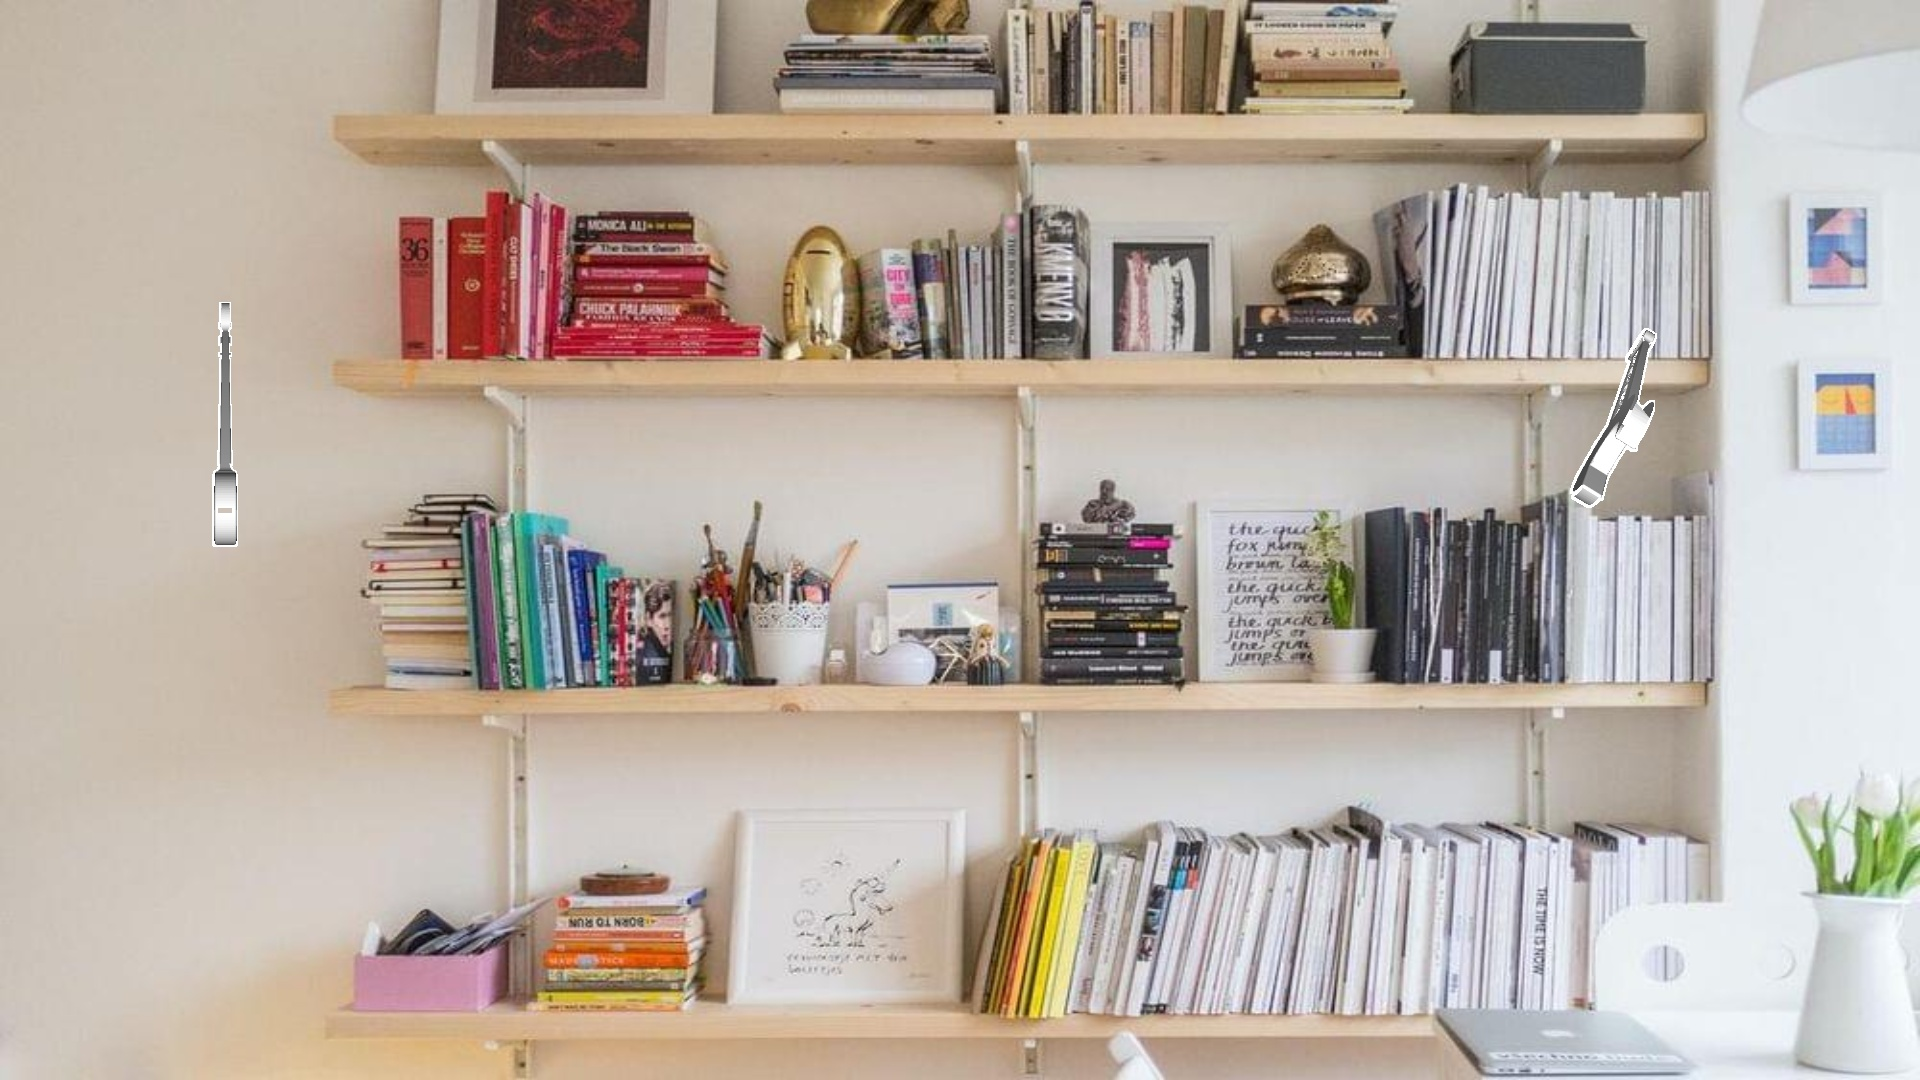Mixed Key: (1571, 328, 1656, 506), (212, 302, 237, 546)
